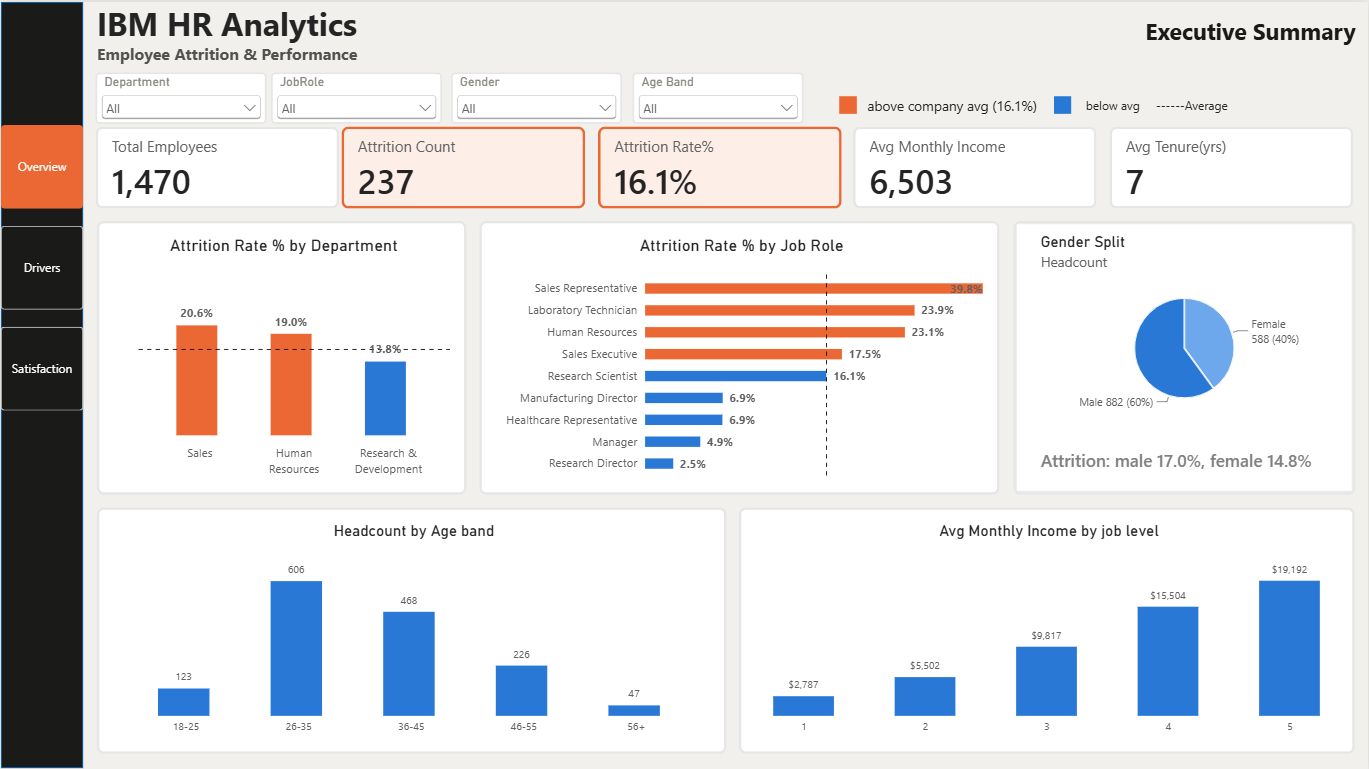

This screenshot's page, from the dashboard's own definition file:
{"tool":"powerbi","page":{"name":"Overview","canvas":[1600,900],"ordinal":0},"visuals":[{"type":"shape","box":[0,0,96,896],"z":0},{"type":"shape","box":[980,110,20,20],"z":0,"group":"g1"},{"type":"shape","box":[1230,110,20,20],"z":1000,"group":"g1"},{"type":"pageNavigator","box":[0,144,96,336],"z":1000},{"type":"textbox","box":[112,0,560,64],"z":2000},{"type":"textbox","box":[1008,110,208,80],"z":2000,"group":"g1"},{"type":"textbox","box":[112,48,560,64],"z":3000},{"type":"textbox","box":[1264,110,80,32],"z":3000,"group":"g1"},{"type":"textbox","box":[1168,16,416,48],"z":4000},{"type":"textbox","box":[1350,110,140,24],"z":4000,"group":"g1"},{"type":"slicer","fields":{"Values":["Fact_Employees.JobRole"]},"box":[316,82,200,60],"z":5000},{"type":"slicer","fields":{"Values":["Fact_Employees.Gender"]},"box":[526,82,200,60],"z":6000},{"type":"slicer","fields":{"Values":["Fact_Employees.Age Band"]},"box":[738,82,200,60],"z":7000},{"type":"group","id":"g1","title":"Group 1","box":[980,110,510,80],"z":8000},{"type":"cardVisual","title":"Total Employees","fields":{"Data":["Measures_.Total Employees Text"]},"box":[110,145,285,96],"z":9000},{"type":"cardVisual","title":"Total Employees","fields":{"Data":["Measures_.Attrition Count"]},"box":[399,145,285,96],"z":10000},{"type":"cardVisual","title":"Total Employees","fields":{"Data":["Measures_.Attrition Rate%"]},"box":[698,145,285,96],"z":11000},{"type":"cardVisual","title":"Total Employees","fields":{"Data":["Measures_.Avg Monthly Income Text"]},"box":[997,145,285,96],"z":12000},{"type":"cardVisual","title":"Total Employees","fields":{"Data":["Measures_.Avg Tenure(yrs)"]},"box":[1296,145,285,96],"z":13000},{"type":"clusteredColumnChart","title":"Attrition Rate % by Department","fields":{"Category":["Fact_Employees.Department"],"Y":["Measures_.Attrition Rate%"]},"box":[112,256,432,320],"z":14000},{"type":"clusteredBarChart","title":"Attrition Rate % by Job Role","fields":{"Category":["Fact_Employees.JobRole"],"Y":["Measures_.Attrition Rate%"]},"box":[560,256,608,320],"z":15000},{"type":"clusteredColumnChart","title":"Headcount by Age band","fields":{"Category":["Fact_Employees.Age Band"],"Y":["Measures_.Total Employees"]},"box":[112,592,736,288],"z":16000},{"type":"clusteredColumnChart","title":"Avg Monthly Income by job  level","fields":{"Category":["Fact_Employees.JobLevel"],"Y":["Measures_.Avg Monthly Income"]},"box":[864,592,720,288],"z":17000},{"type":"shape","box":[1184,256,400,320],"z":18000},{"type":"pieChart","title":"Gender Split","fields":{"Series":["Fact_Employees.Gender"],"Y":["Measures_.Total Employees"]},"box":[1200,256,368,240],"z":19000},{"type":"cardVisual","fields":{"Data":["Measures_.Gender Attrition Text"]},"box":[1200,512,352,48],"z":20000},{"type":"slicer","fields":{"Values":["Fact_Employees.Department"]},"box":[110,82,200,60],"z":21000}]}

Visuals, with their boxes in screenshot pixels (x1, y1, x2, y2), scaled from the page's 1600x900 canvas onto the 1369x769 screenshot:
shape: 0,0,82,766
shape: 839,94,856,111
shape: 1052,94,1070,111
pageNavigator: 0,123,82,410
textbox: 96,0,575,55
textbox: 862,94,1040,162
textbox: 96,41,575,96
textbox: 1082,94,1150,121
textbox: 999,14,1355,55
textbox: 1155,94,1275,114
slicer - Fact_Employees.JobRole: 270,70,442,121
slicer - Fact_Employees.Gender: 450,70,621,121
slicer - Fact_Employees.Age Band: 631,70,803,121
"Group 1" group: 839,94,1275,162
"Total Employees" cardVisual: 94,124,338,206
"Total Employees" cardVisual: 341,124,585,206
"Total Employees" cardVisual: 597,124,841,206
"Total Employees" cardVisual: 853,124,1097,206
"Total Employees" cardVisual: 1109,124,1353,206
"Attrition Rate % by Department" clusteredColumnChart: 96,219,465,492
"Attrition Rate % by Job Role" clusteredBarChart: 479,219,999,492
"Headcount by Age band" clusteredColumnChart: 96,506,726,752
"Avg Monthly Income by job  level" clusteredColumnChart: 739,506,1355,752
shape: 1013,219,1355,492
"Gender Split" pieChart: 1027,219,1342,424
cardVisual - Measures_.Gender Attrition Text: 1027,437,1328,478
slicer - Fact_Employees.Department: 94,70,265,121
